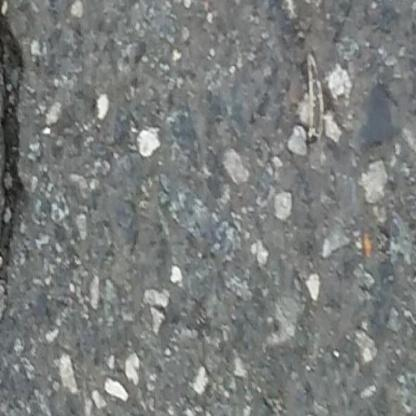Cracks: (0, 0, 28, 380)
